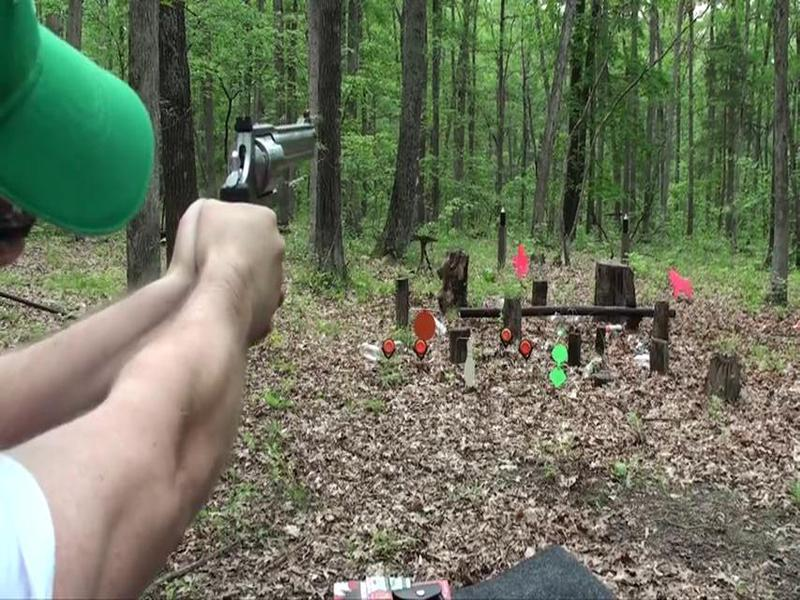Revolver: (212, 94, 333, 241)
